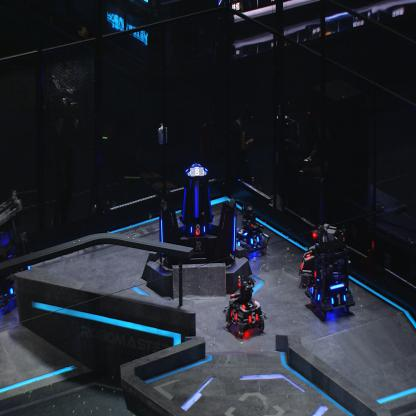car: (304, 237, 357, 318), (0, 190, 32, 312), (297, 219, 351, 288), (224, 272, 266, 335), (230, 203, 267, 258)
